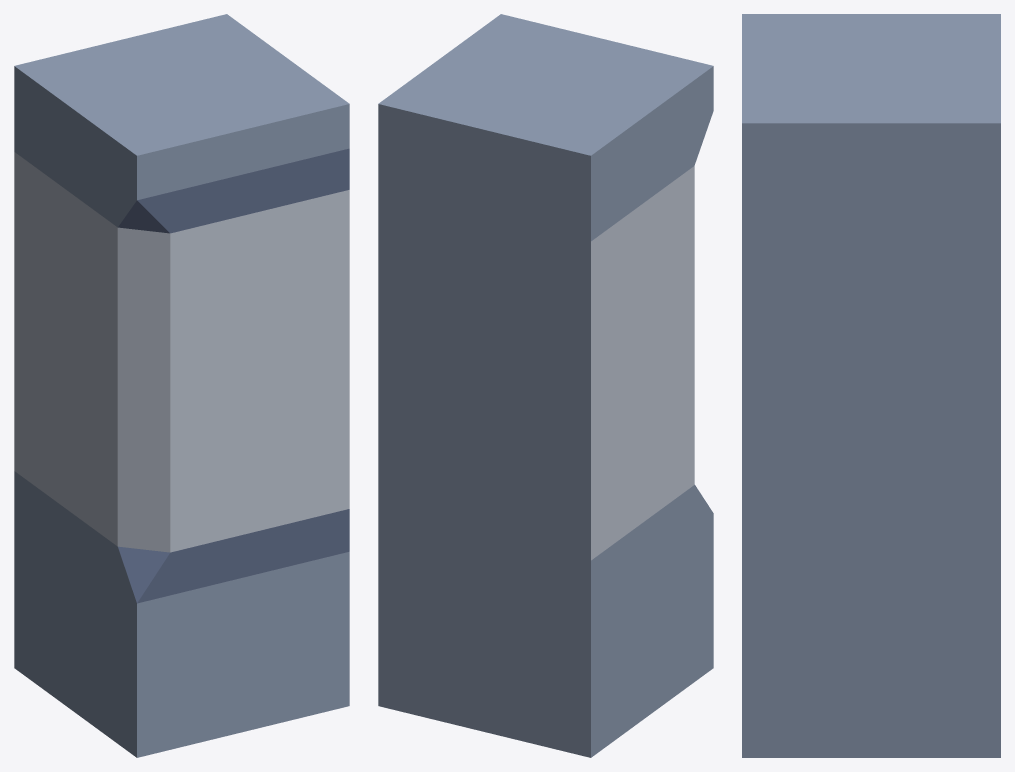
Rendered from innerCornerWallsplain.fbx.
The picture shows the model from 3 angles, left to right: view 1: azimuth 30°, elevation 25°; view 2: azimuth 150°, elevation 25°; view 3: azimuth 270°, elevation 25°; orthographic projection. The views are drawn at different scales.
Parts seen in each view (by area): view 1: Cube.015; view 2: Cube.015; view 3: Cube.015.
Boxes of the visible parts, x1,y1,x2,y2 form: Cube.015: (14, 14, 349, 757); Cube.015: (378, 14, 713, 757); Cube.015: (742, 14, 1000, 757).
Bounding box in the file's own units: 200 × 541 × 200.
